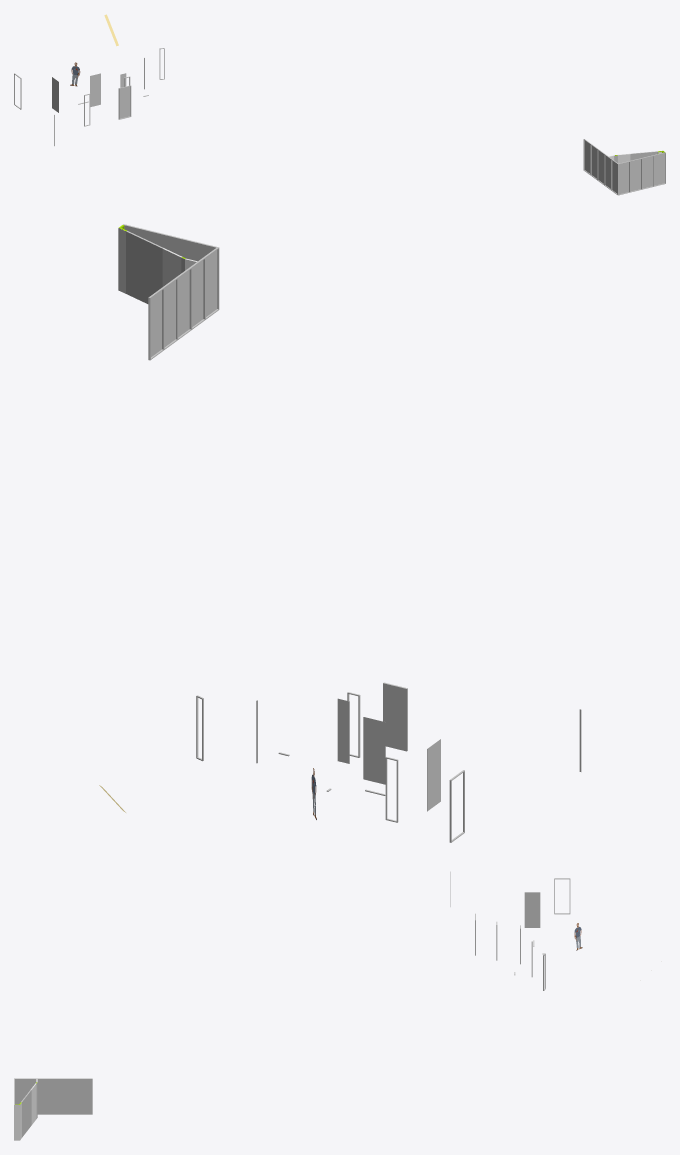
Rendered from Kansallisen koulutuksen arviointikesus  Educa 26.glb.
3 views of the same model, one above another, from view 1: azimuth 30°, elevation 25°; view 2: azimuth 150°, elevation 25°; view 3: azimuth 270°, elevation 25° (orthographic). The views are drawn at different scales.
Parts seen in each view (by area): view 1: Geom3D_pläysä 1000 (×4), Geom3D_pläysä 926 (×2); view 2: Geom3D_pläysä 1000 (×4), Geom3D_pläysä 926; view 3: Geom3D_pläysä 1000 (×4).
Boxes of the visible parts, <box> form: Geom3D_pläysä 1000 (×4): <box>119,86,664,191</box>; Geom3D_pläysä 926 (×2): <box>90,73,628,194</box>; Geom3D_pläysä 1000 (×4): <box>126,231,440,811</box>; Geom3D_pläysä 926: <box>363,717,385,784</box>; Geom3D_pläysä 1000 (×4): <box>45,892,540,1114</box>.
Size of the model in its own units: 35.19 by 3.91 by 41.47.
